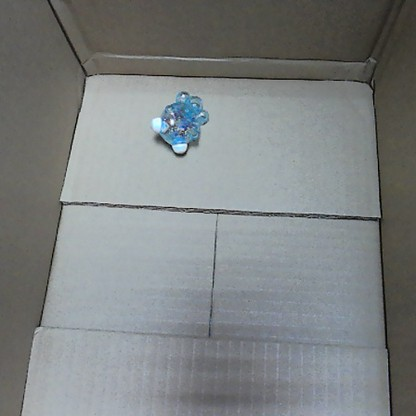bluefish: (147, 88, 212, 157)
